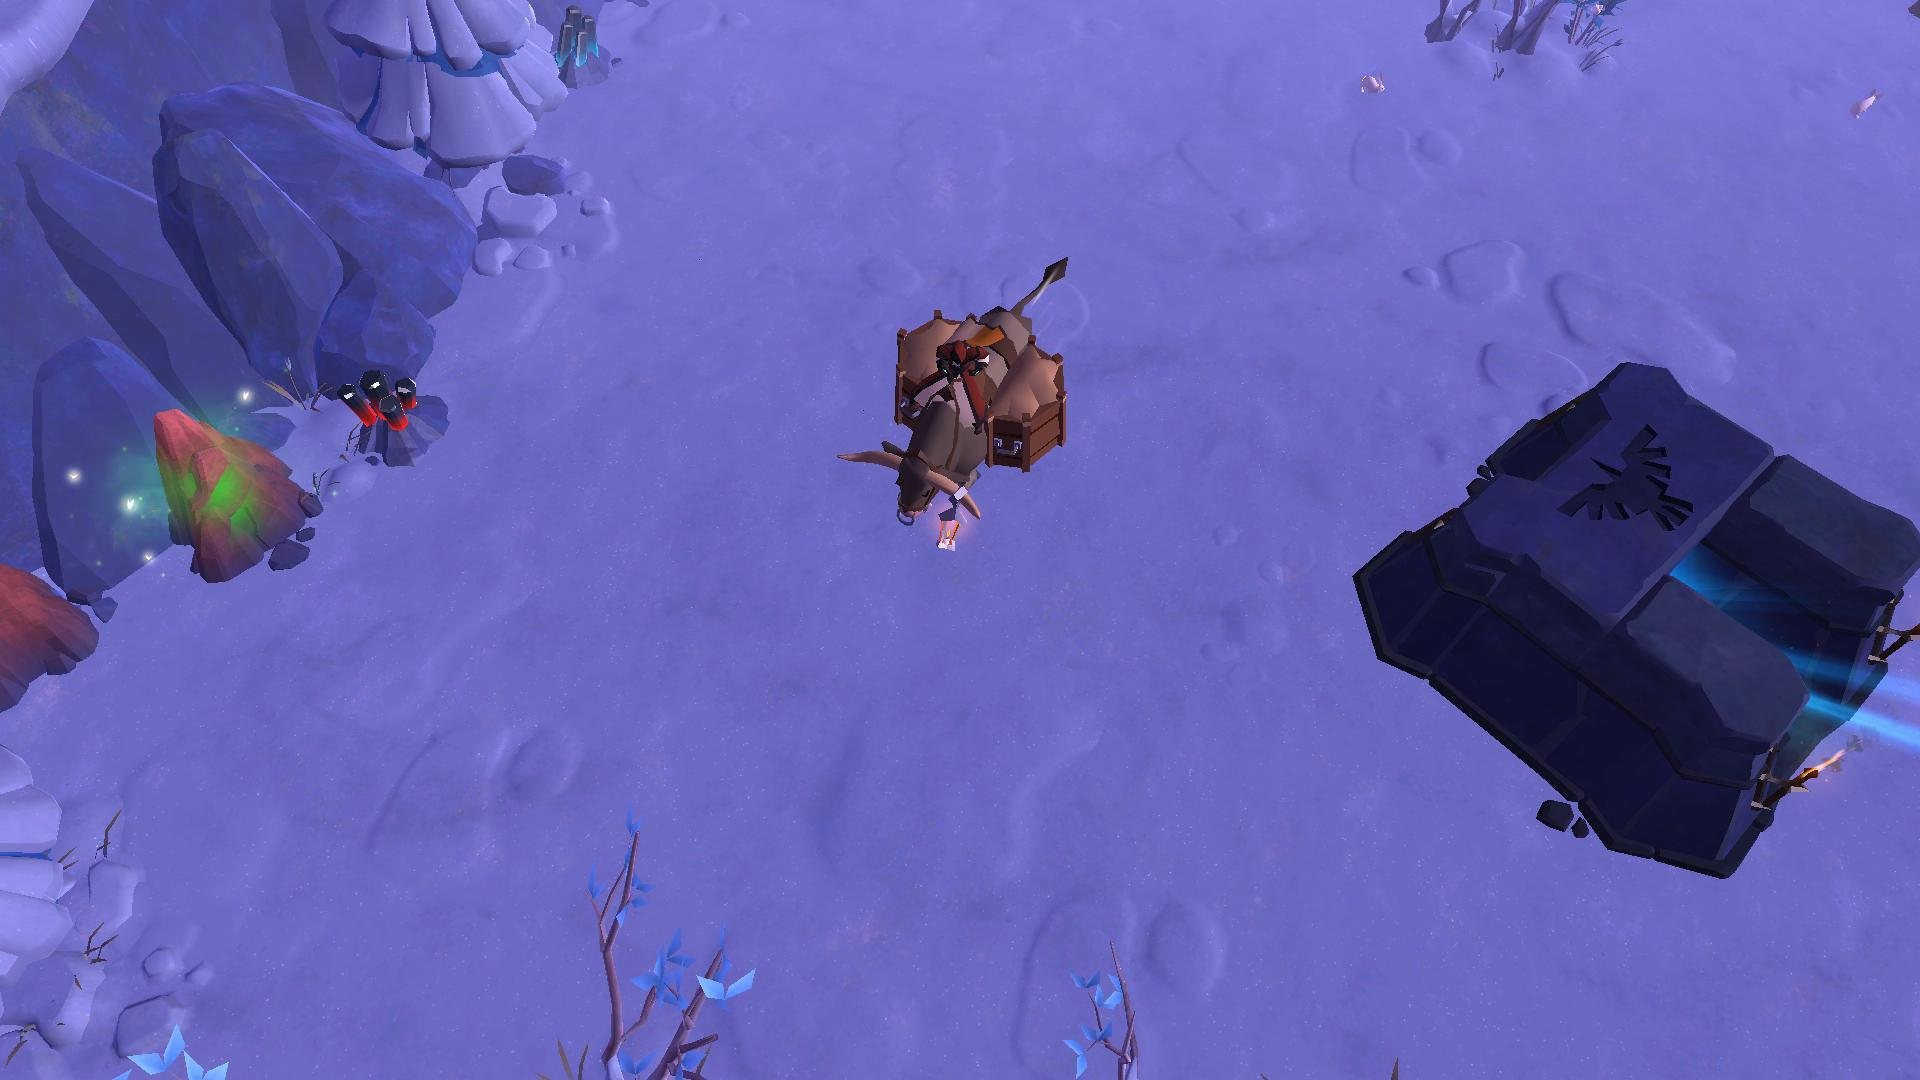ore_t4: (543, 11, 605, 80)
ore_t5: (332, 364, 422, 434)
rock_t5: (148, 410, 318, 582), (0, 553, 119, 721)
